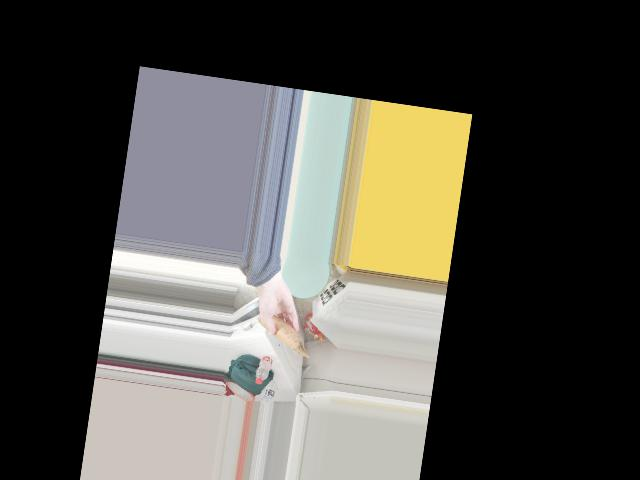sweet_potato: (260, 316, 299, 346)
